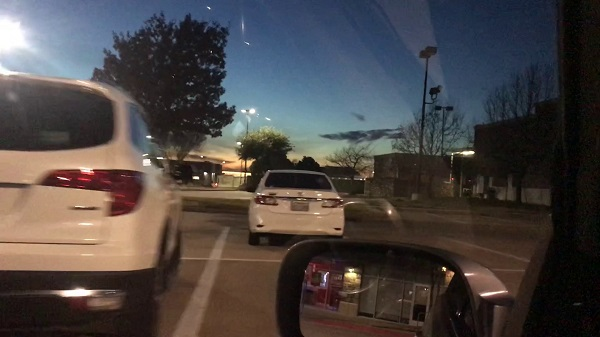car: (1, 68, 183, 316), (245, 169, 347, 246)
